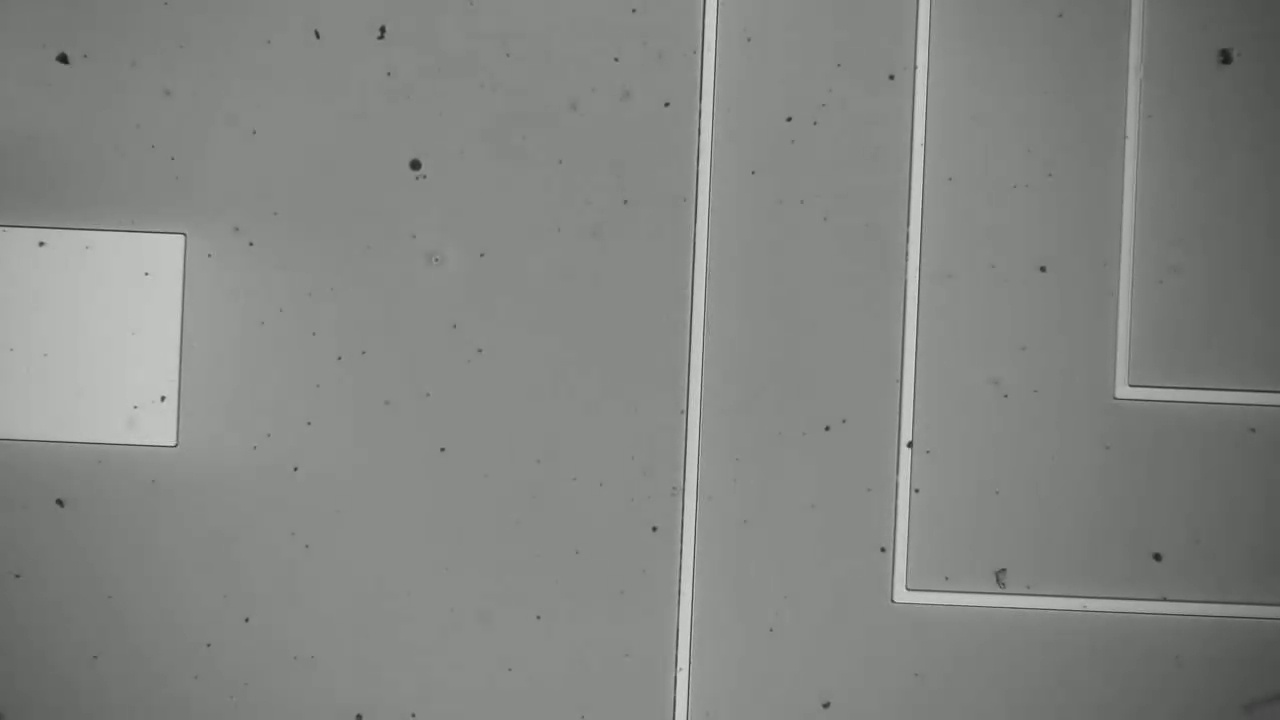stains_enbedded: (893, 432, 919, 458)
